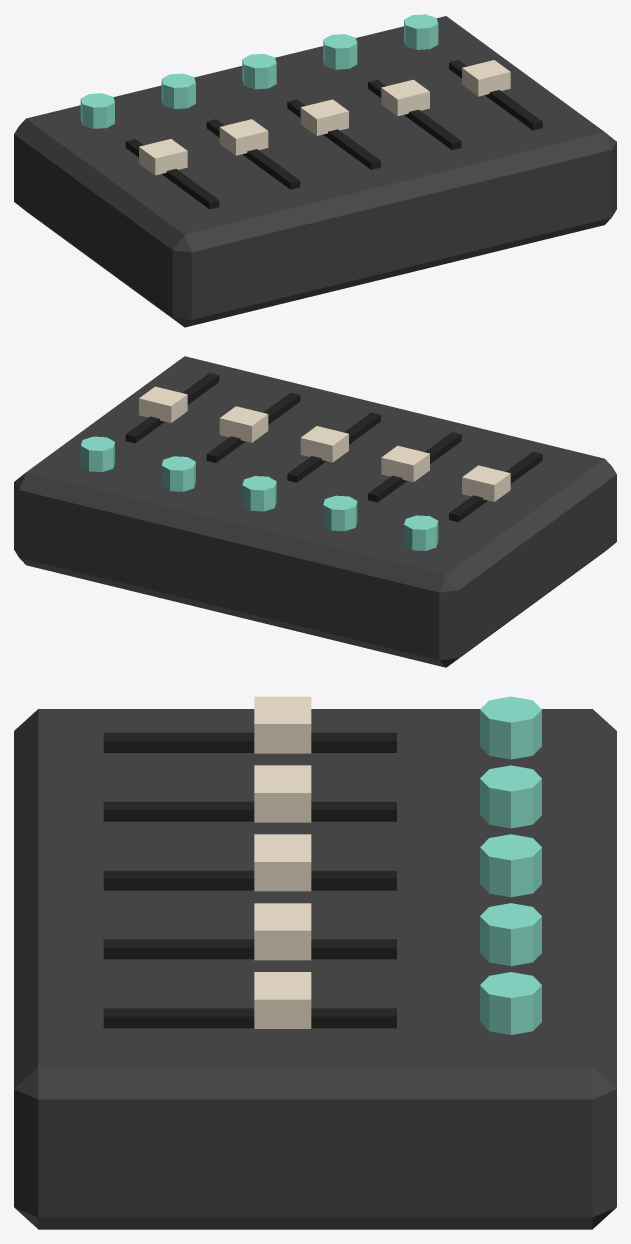
3 renders of one model, top to bottom at view 1: azimuth 30°, elevation 25°; view 2: azimuth 150°, elevation 25°; view 3: azimuth 270°, elevation 25°, orthographic. The views are drawn at different scales.
Parts seen in each view (by area): view 1: Audio console, Fader.001, Fader.003, Fader.004, Fader, Fader.002, Knob.003, Knob.004, Knob, Knob.002, Knob.001, Fader rail (+4 smaller); view 2: Audio console, Fader.003, Fader, Fader.001, Fader.002, Fader.004, Knob.003, Knob.002, Knob, Knob.004, Knob.001, Fader rail.004 (+4 smaller); view 3: Audio console, Fader rail, Fader rail.001, Fader rail.002, Fader rail.003, Fader rail.004, Knob.004, Knob.003, Knob.002, Knob.001, Knob, Fader.001 (+4 smaller).
Boxes of the visible parts, x1,y1,x2,y2 form: Audio console: [14, 16, 616, 327]; Fader.001: [219, 119, 268, 155]; Fader.003: [381, 79, 429, 116]; Fader.004: [462, 60, 510, 96]; Fader: [139, 139, 187, 175]; Fader.002: [300, 99, 348, 135]; Knob.003: [323, 34, 357, 69]; Knob.004: [404, 14, 438, 49]; Knob: [80, 93, 114, 128]; Knob.002: [242, 54, 276, 89]; Knob.001: [161, 73, 195, 108]; Fader rail: [125, 139, 219, 209]; Audio console: [14, 356, 616, 667]; Fader.003: [219, 406, 268, 442]; Fader: [462, 465, 510, 501]; Fader.001: [381, 445, 429, 482]; Fader.002: [300, 426, 348, 462]; Fader.004: [139, 386, 187, 422]; Knob.003: [161, 456, 195, 491]; Knob.002: [242, 476, 276, 511]; Knob: [404, 515, 438, 550]; Knob.004: [80, 436, 114, 471]; Knob.001: [323, 495, 357, 531]; Fader rail.004: [125, 373, 219, 443]; Audio console: [14, 709, 616, 1229]; Fader rail: [103, 732, 396, 752]; Fader rail.001: [103, 801, 396, 821]; Fader rail.002: [103, 870, 396, 890]; Fader rail.003: [103, 939, 396, 959]; Fader rail.004: [103, 1008, 396, 1028]; Knob.004: [480, 972, 541, 1034]; Knob.003: [480, 903, 541, 965]; Knob.002: [480, 834, 541, 897]; Knob.001: [480, 765, 541, 828]; Knob: [480, 696, 541, 759]; Fader.001: [254, 765, 311, 822].
Size of the model in its own units: 0.55 by 0.1375 by 0.37.
1 material, 1 textured.
